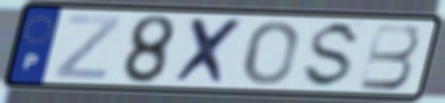8: (121, 12, 178, 86)
B: (357, 22, 422, 92)
O: (241, 19, 300, 87)
S: (299, 19, 365, 91)
X: (170, 15, 249, 87)
Z: (51, 14, 124, 82)
